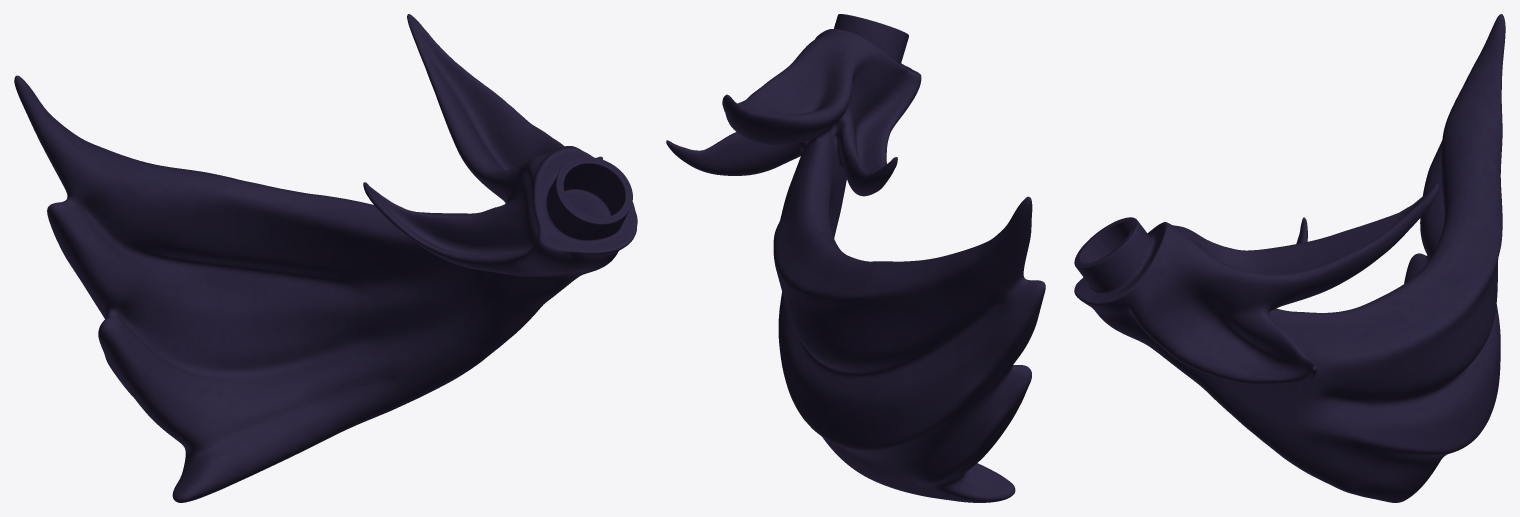
Rendered from Queue_Corbeau.glb.
3 views of the same model, side by side, from view 1: azimuth 30°, elevation 25°; view 2: azimuth 150°, elevation 25°; view 3: azimuth 270°, elevation 25° (orthographic). The views are drawn at different scales.
Visible parts, largest first — view 1: Queue_Corbeau; view 2: Queue_Corbeau; view 3: Queue_Corbeau.
Boxes of the visible parts, x1,y1,x2,y2 form: Queue_Corbeau: (14,14,637,502); Queue_Corbeau: (666,14,1045,502); Queue_Corbeau: (1074,14,1505,502).
Size of the model in its own units: 5.1 by 4.01 by 4.03.
